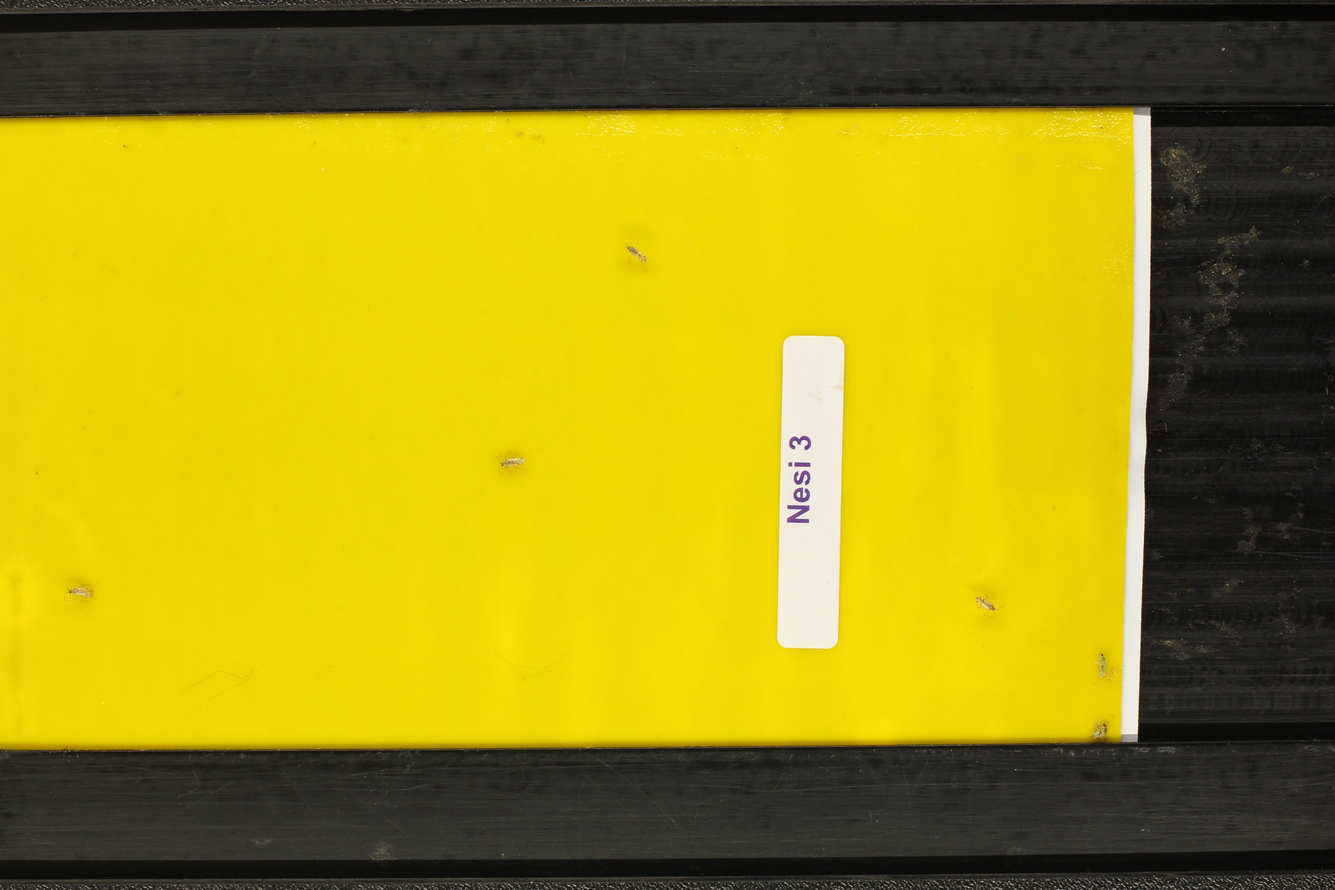NC: (969, 589, 1005, 619), (619, 236, 651, 269), (1089, 648, 1118, 683), (1085, 718, 1121, 745), (497, 450, 530, 477), (65, 581, 100, 603)
